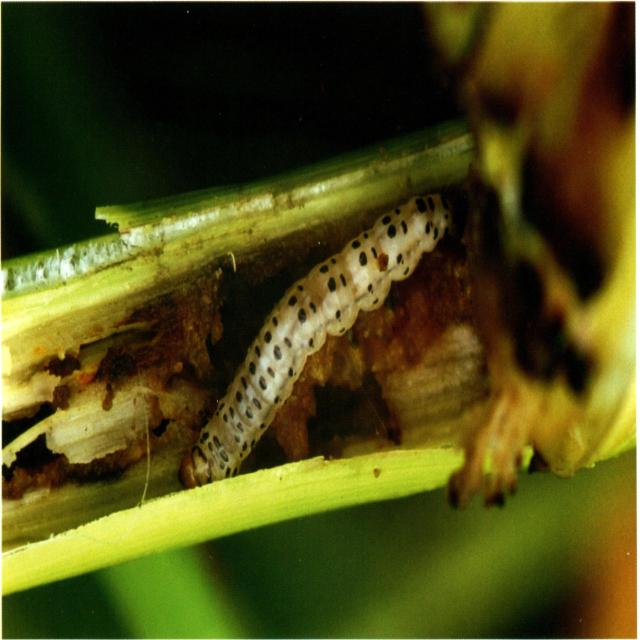peach borer: (168, 196, 454, 490)
